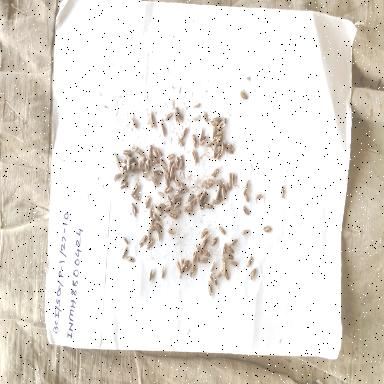pbw: (174, 106, 182, 124), (216, 118, 228, 130), (238, 87, 248, 101), (138, 234, 148, 248), (180, 126, 188, 142), (130, 115, 138, 131), (130, 202, 138, 218), (168, 160, 176, 176), (148, 268, 156, 284), (262, 224, 274, 234), (183, 205, 195, 215), (210, 117, 222, 127), (227, 172, 233, 192), (197, 195, 204, 212), (249, 267, 257, 281), (200, 239, 208, 253), (242, 202, 250, 216), (210, 273, 218, 287), (120, 246, 128, 260), (136, 158, 144, 172), (172, 191, 180, 205), (146, 237, 154, 251), (254, 192, 264, 203), (152, 212, 162, 223), (206, 278, 212, 296), (150, 112, 156, 130), (192, 149, 198, 167), (144, 195, 151, 210), (154, 203, 162, 216), (221, 254, 234, 262), (246, 255, 254, 268), (210, 236, 218, 249), (180, 181, 188, 194), (123, 148, 133, 158), (126, 255, 136, 265), (164, 112, 174, 122), (167, 227, 177, 237), (168, 212, 178, 222), (120, 181, 130, 191), (226, 245, 236, 255), (131, 192, 141, 202), (177, 136, 184, 150), (120, 172, 127, 186), (200, 226, 207, 240), (130, 161, 138, 173), (160, 122, 166, 138), (192, 134, 198, 150), (144, 158, 150, 174), (146, 226, 152, 242), (244, 178, 250, 194), (160, 264, 166, 280), (156, 147, 164, 159), (211, 167, 219, 179), (215, 186, 221, 202), (173, 176, 181, 188), (184, 262, 192, 274), (187, 192, 195, 204), (210, 125, 216, 141), (220, 186, 226, 202), (180, 258, 186, 274), (132, 182, 140, 194), (164, 185, 174, 194), (163, 206, 172, 216), (176, 260, 182, 275), (225, 148, 236, 156), (174, 201, 182, 212), (210, 259, 216, 273), (190, 265, 196, 279), (200, 136, 207, 148), (243, 192, 250, 204), (279, 185, 285, 199), (113, 151, 119, 165), (166, 193, 172, 207), (219, 224, 226, 236), (202, 110, 208, 124), (164, 174, 170, 188), (198, 128, 204, 142), (212, 145, 218, 159), (122, 236, 130, 246), (204, 204, 214, 212), (215, 136, 223, 146), (136, 148, 144, 158), (220, 141, 225, 157), (216, 146, 221, 162), (166, 152, 174, 162), (150, 178, 158, 188), (182, 260, 190, 270), (240, 228, 250, 236), (196, 190, 204, 200), (190, 198, 198, 208), (195, 242, 201, 255), (147, 207, 153, 220), (149, 217, 155, 229), (152, 168, 158, 180), (216, 180, 222, 192), (180, 154, 184, 172), (220, 178, 226, 190), (200, 257, 209, 265), (160, 159, 166, 171), (201, 196, 208, 206), (212, 199, 222, 206), (225, 269, 230, 283), (148, 144, 153, 158), (231, 237, 238, 247), (219, 261, 224, 275), (203, 232, 210, 242), (157, 202, 167, 209), (222, 241, 227, 255), (206, 140, 213, 150), (141, 169, 147, 180), (176, 155, 180, 171), (216, 128, 224, 136), (224, 261, 228, 277), (203, 249, 211, 257), (193, 102, 201, 110), (138, 156, 146, 164), (114, 172, 122, 180), (155, 169, 163, 177), (152, 149, 158, 159), (195, 254, 200, 266), (122, 159, 132, 165), (119, 164, 125, 174), (204, 178, 214, 184), (216, 270, 222, 280), (152, 156, 158, 166), (204, 183, 212, 190), (192, 252, 196, 266), (231, 260, 238, 268), (170, 166, 174, 180), (225, 182, 229, 196), (225, 143, 234, 149), (132, 170, 140, 176), (127, 158, 130, 174)
